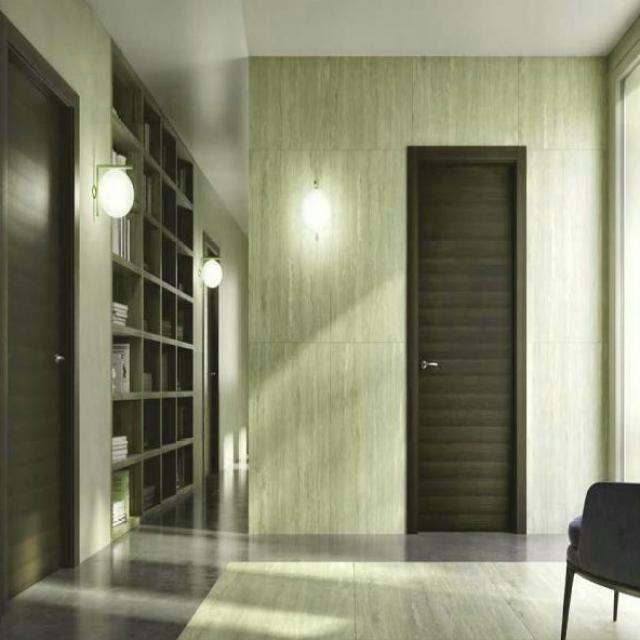door: (1, 13, 85, 620), (406, 145, 524, 534)
